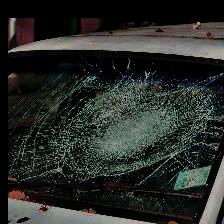glass_shatter: (40, 64, 220, 204)
